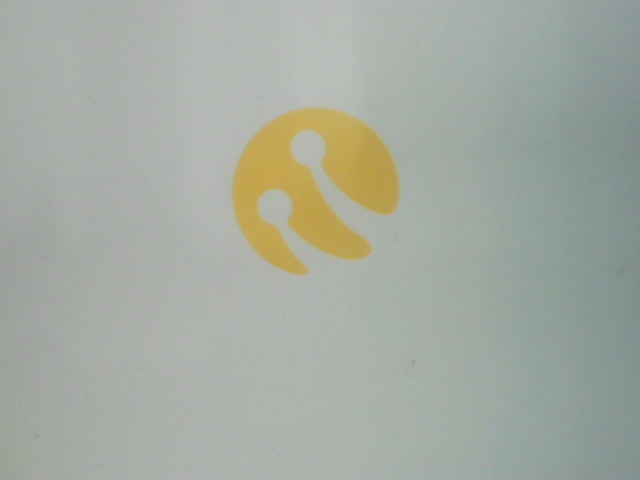AV_H3600Yellow: (220, 106, 413, 278)
